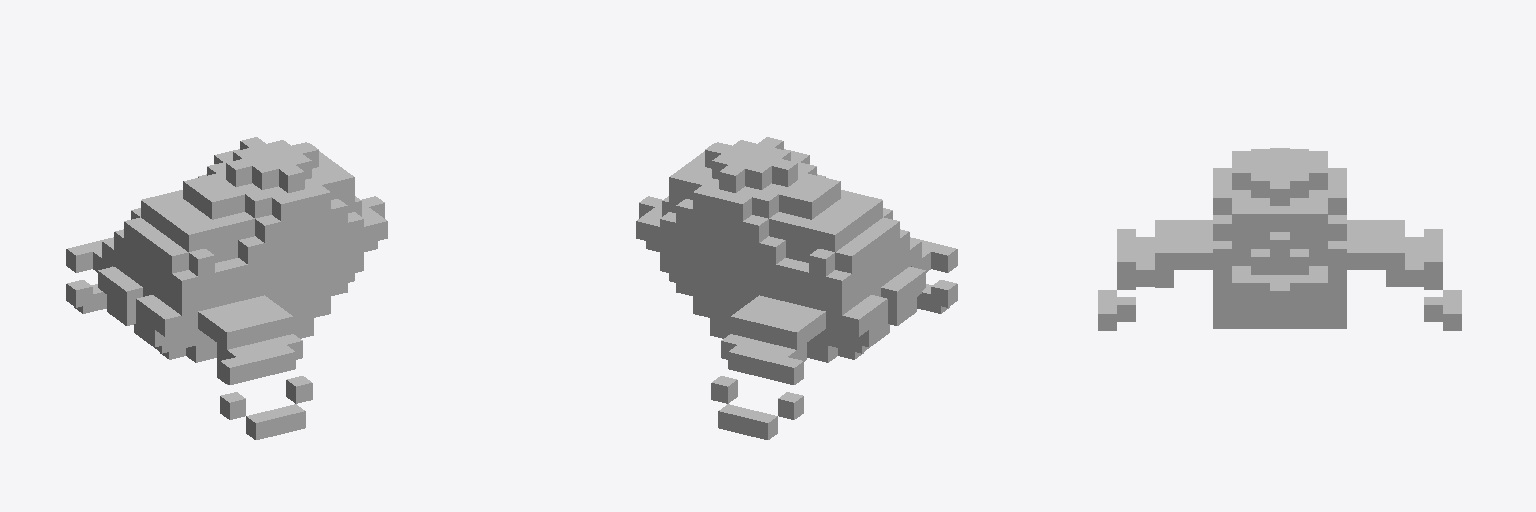
Rendered from GrayBird.obj.
3 views of the same model, side by side, from view 1: azimuth 30°, elevation 25°; view 2: azimuth 150°, elevation 25°; view 3: azimuth 270°, elevation 25° (orthographic).
Parts seen in each view (by area): view 1: object 1; view 2: object 1; view 3: object 1.
Part boxes in pixels (bbox=[...]): object 1: bbox=[66, 137, 387, 439]; object 1: bbox=[636, 137, 957, 439]; object 1: bbox=[1098, 148, 1461, 330].
Size of the model in its own units: 1.5 by 1.1 by 1.9.